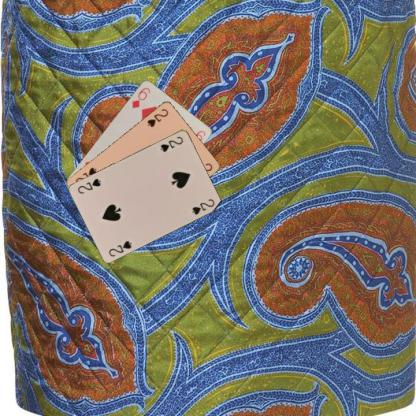2s: (144, 106, 170, 128), (106, 238, 133, 258), (158, 134, 184, 153)
6d: (130, 84, 152, 110)
